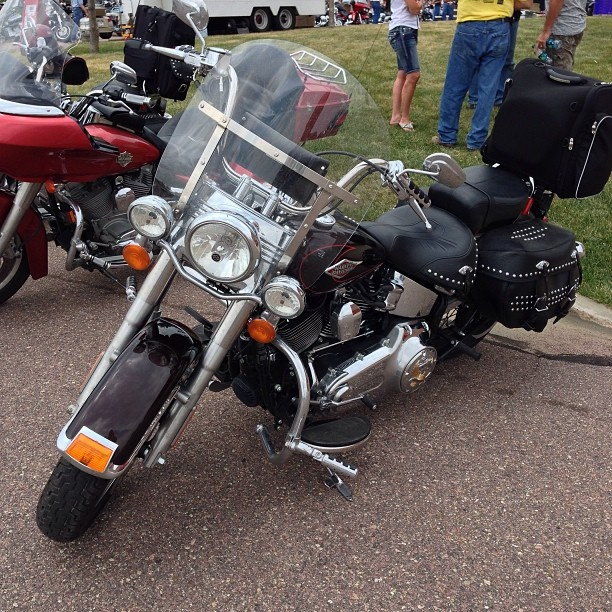non-vehicle: (37, 44, 596, 551), (1, 54, 178, 301)
